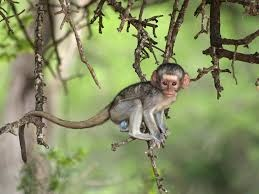monkey: (12, 59, 192, 165)
